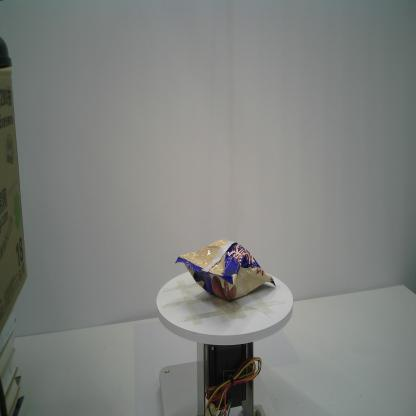Dessert: (174, 238, 276, 302)
